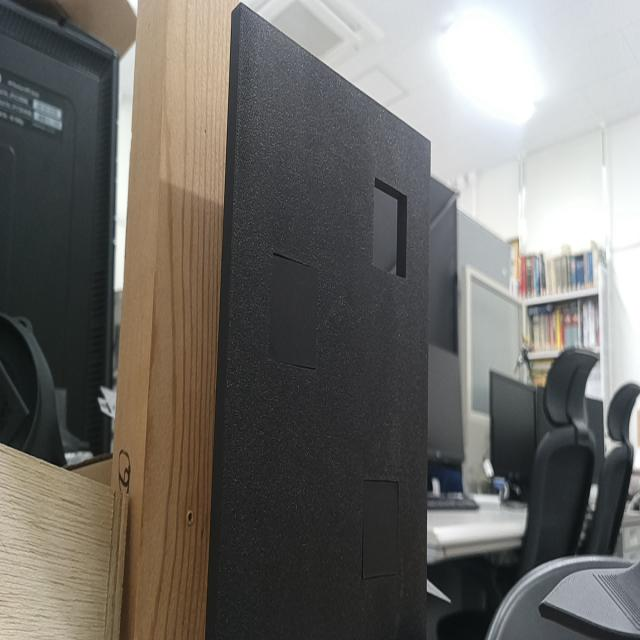Obstacle: (373, 177, 409, 278)
Wall: (218, 4, 432, 639)
